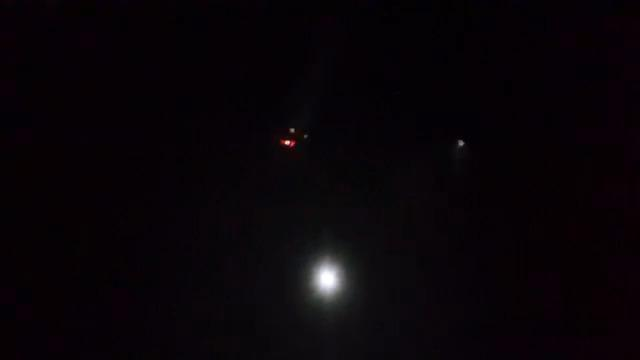Plane: (259, 114, 326, 156)
